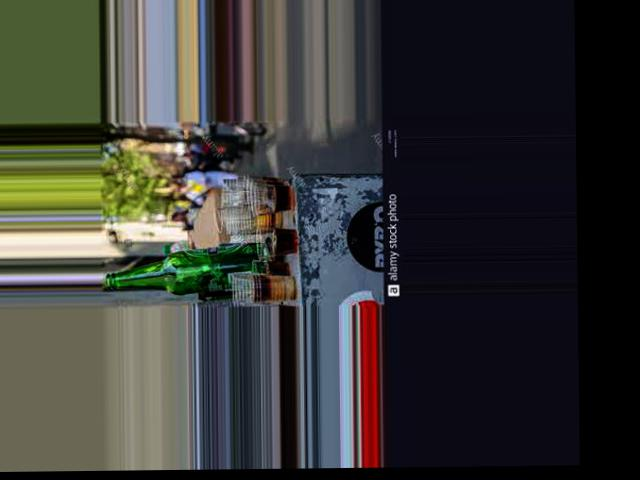beer: (105, 241, 280, 296)
